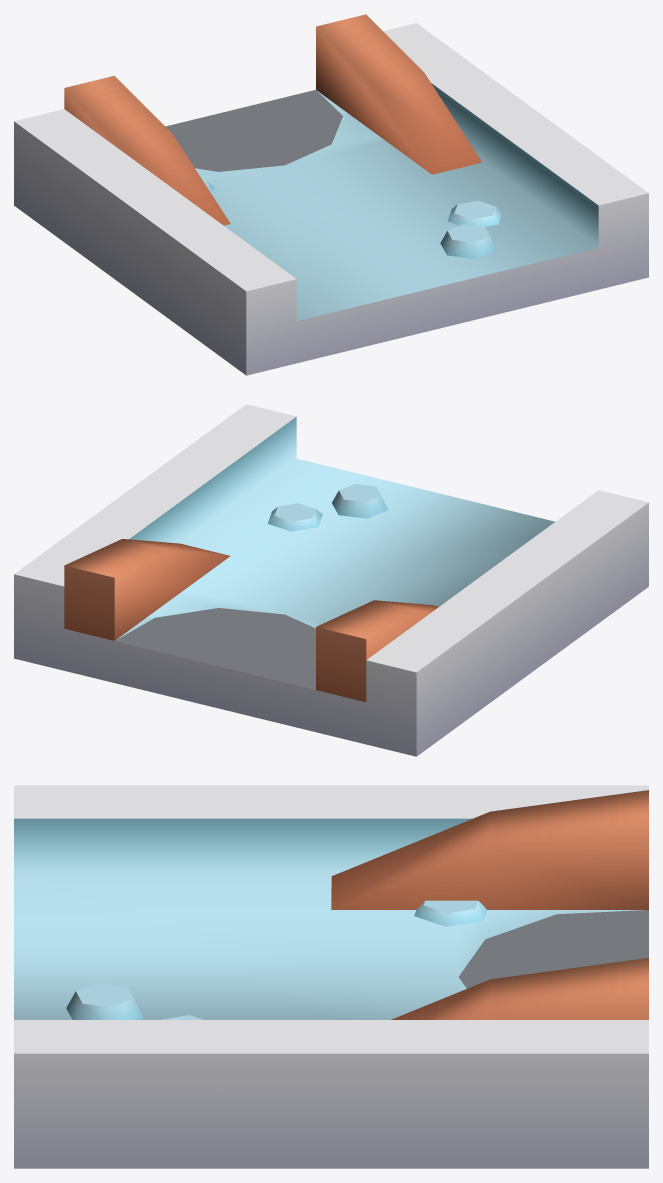
File: snow-tile-river-transition.fbx
3 renders of one model, top to bottom at view 1: azimuth 30°, elevation 25°; view 2: azimuth 150°, elevation 25°; view 3: azimuth 270°, elevation 25°, orthographic. The views are drawn at different scales.
Visible parts, largest first — view 1: snow-tile-river-transition; view 2: snow-tile-river-transition; view 3: snow-tile-river-transition.
Part boxes in pixels (left/top/right/bottom): snow-tile-river-transition: left=14, top=14, right=648, bottom=375; snow-tile-river-transition: left=14, top=404, right=648, bottom=756; snow-tile-river-transition: left=14, top=785, right=648, bottom=1168.
Size of the model in its own units: 100 by 25 by 100.
